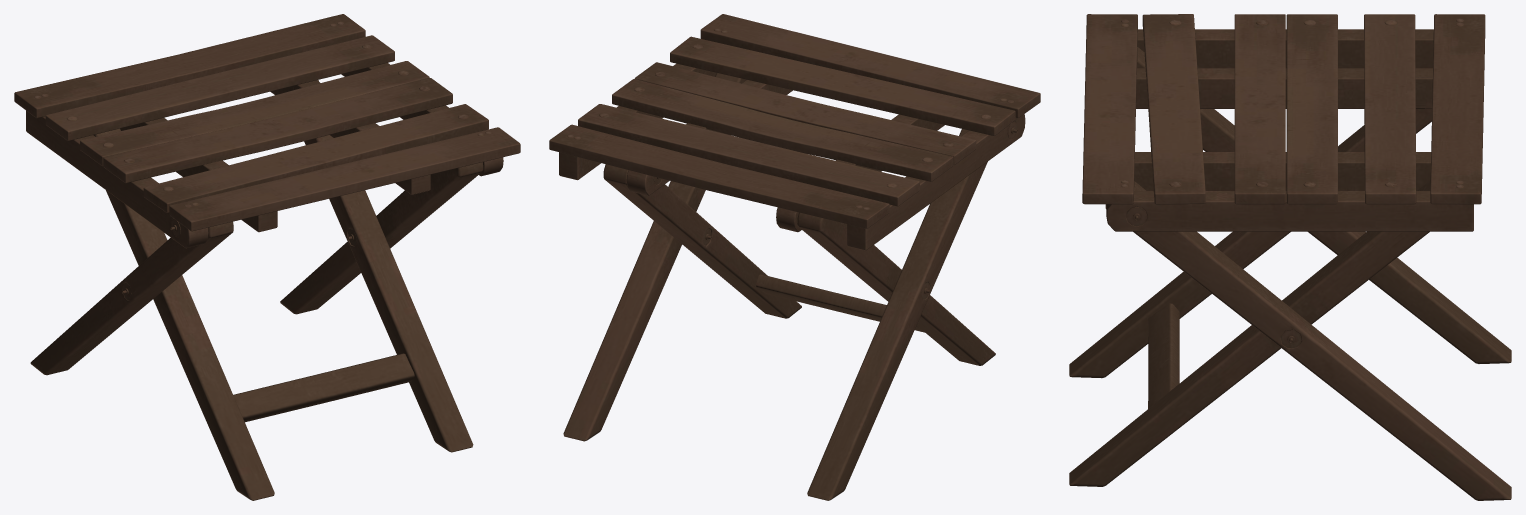
Rendered from dark-oak.glb.
The picture shows the model from 3 angles, left to right: view 1: azimuth 30°, elevation 25°; view 2: azimuth 150°, elevation 25°; view 3: azimuth 270°, elevation 25°; orthographic projection. The views are drawn at different scales.
Visible parts, largest first — view 1: krosna; view 2: krosna; view 3: krosna.
Part boxes in pixels (bbox=[...]): krosna: bbox=[14, 14, 520, 500]; krosna: bbox=[549, 14, 1040, 500]; krosna: bbox=[1069, 14, 1511, 500].
Bounding box in the file's own units: 0.5278 × 0.442 × 0.5471.
1 material, 1 textured.
